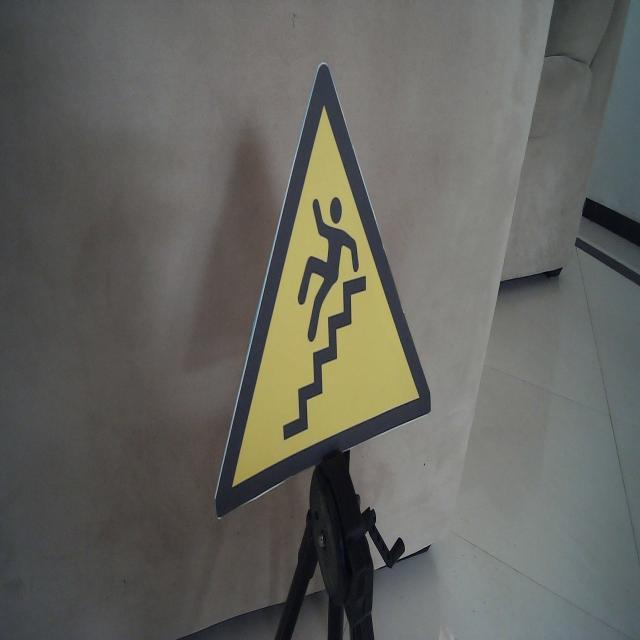stairs: (213, 59, 433, 522)
